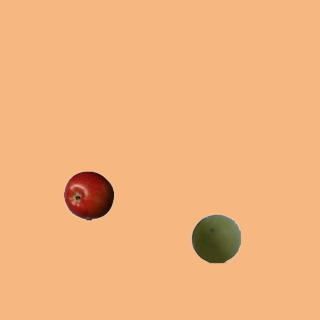Apple Braeburn: (63, 170, 113, 220)
Grape White 4: (190, 213, 240, 263)
